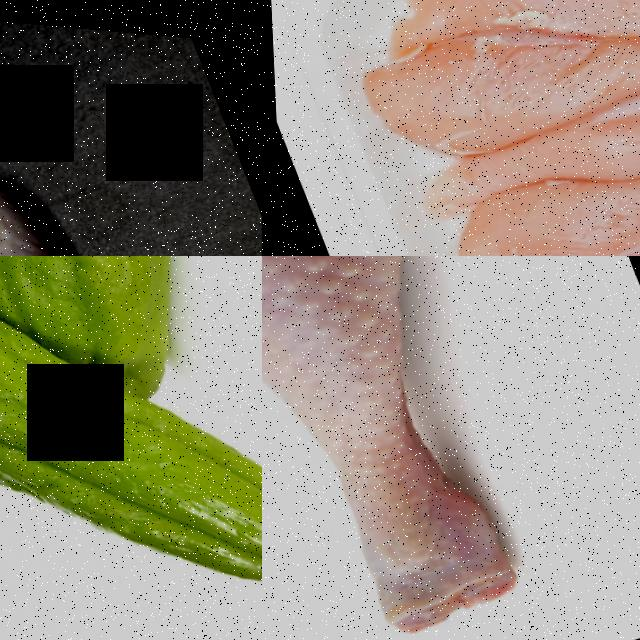chicken breast: (320, 0, 640, 195), (407, 0, 640, 250), (423, 67, 640, 256)
chicken thigh: (262, 256, 596, 640), (0, 84, 213, 256)
